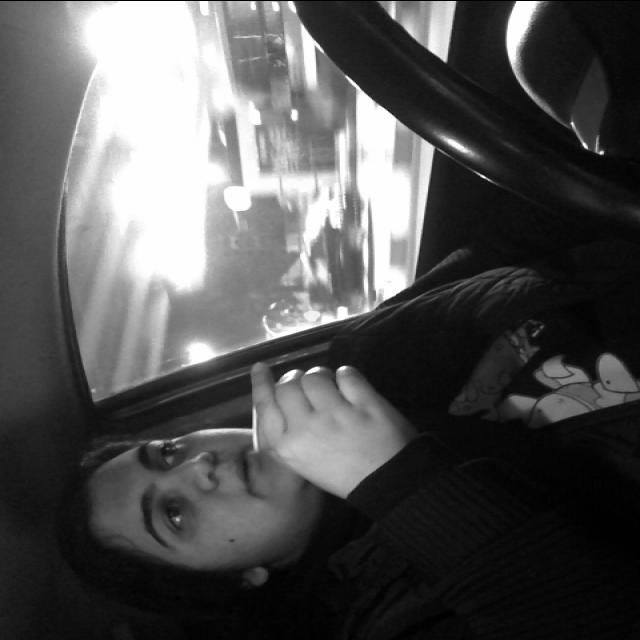drinking: (238, 364, 387, 456)
